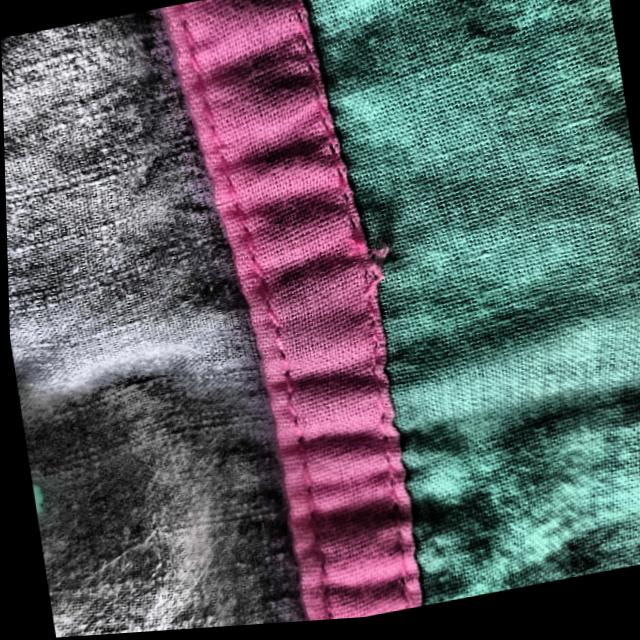Stitch: (314, 189, 418, 312)
